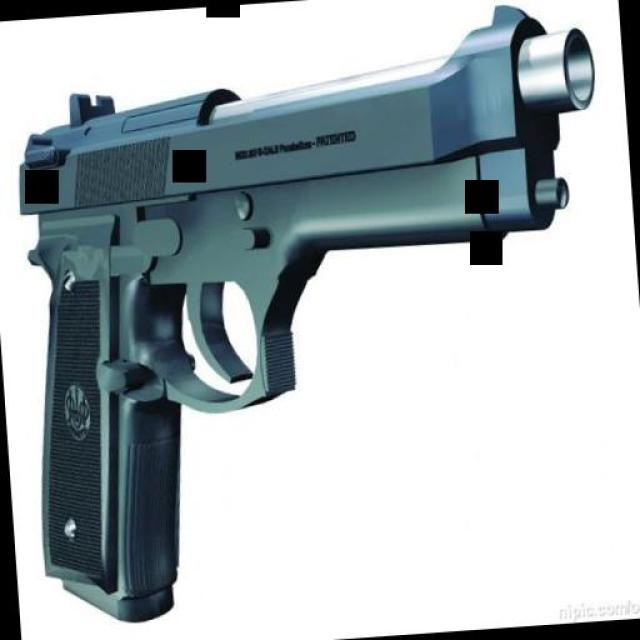gun: (0, 0, 629, 619)
